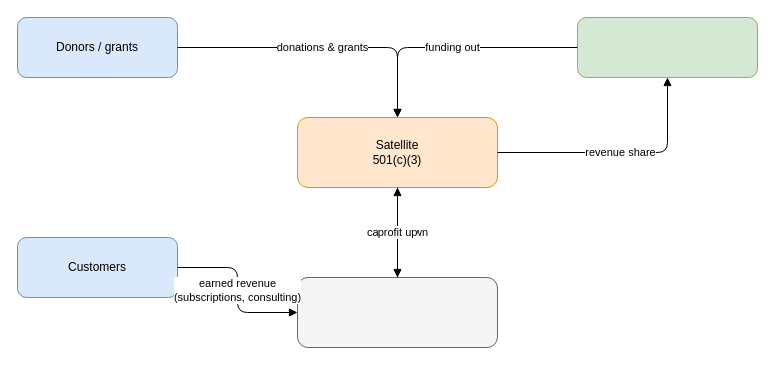
Some shapes in this 775 by 365 pixel diagram are drawn without their labels. The shapes that lost their labels are listed below. From the top down, each one's centre as x and y in pixels, then its label:
the point at 667,47: Commons (see §1)
the point at 397,312: For-profit subsidiary (optional)
